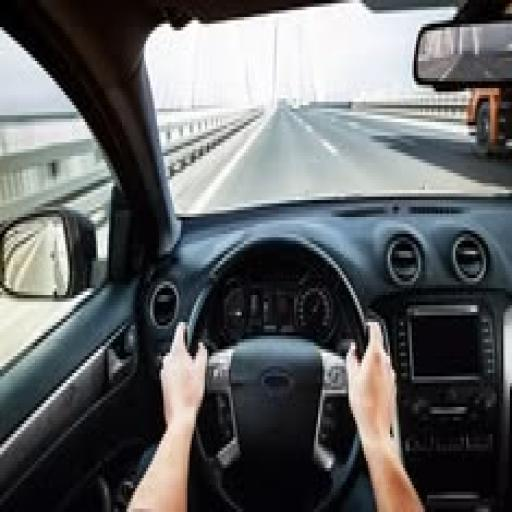Hands-on-the-Wheel: (138, 302, 234, 436), (332, 295, 408, 448)
